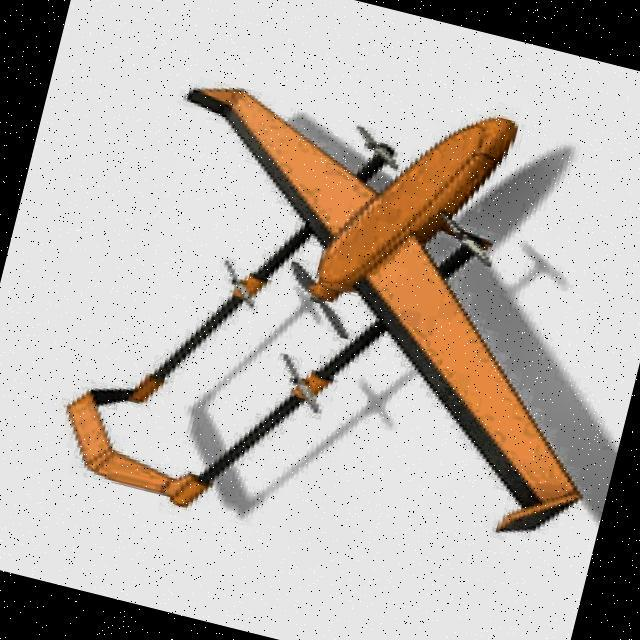iha: (29, 20, 640, 610)
